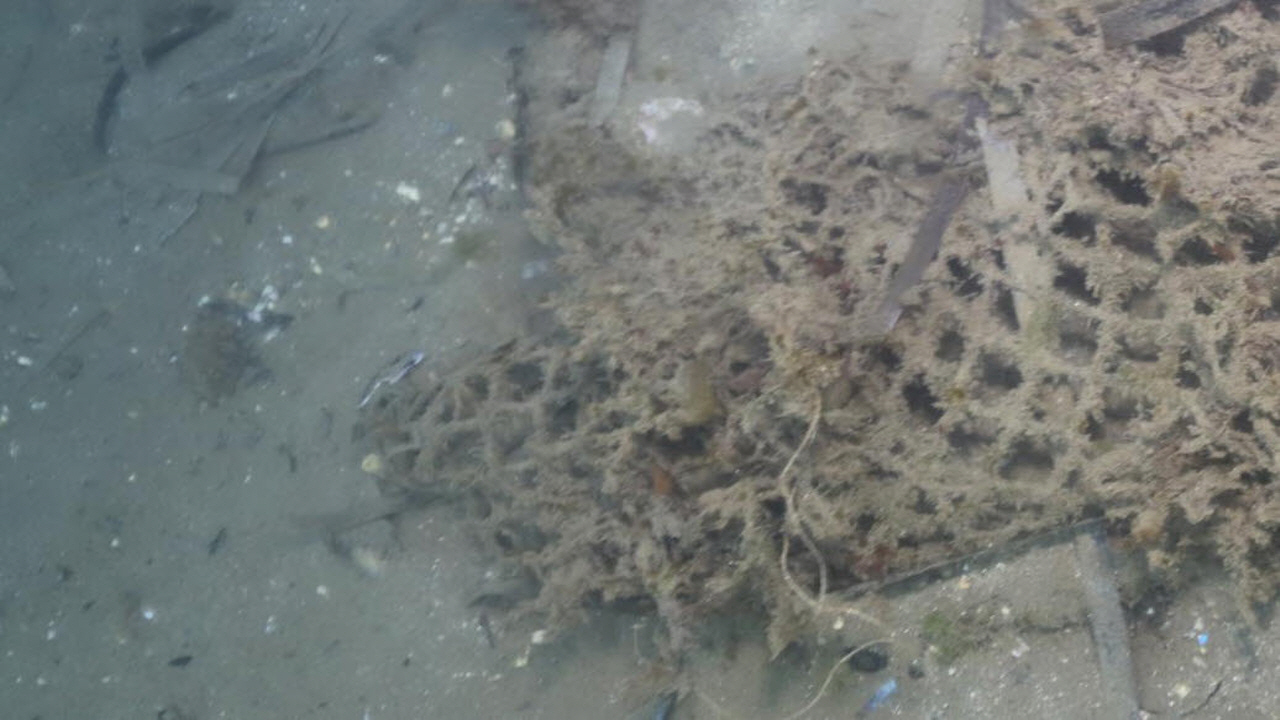fish net: (402, 52, 1280, 544)
